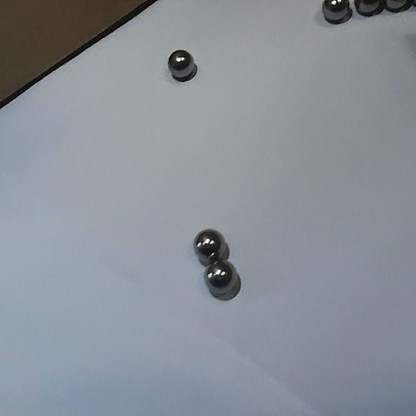ironball: (198, 258, 240, 299), (189, 222, 232, 261), (162, 43, 197, 80), (314, 0, 349, 23), (383, 0, 415, 19), (354, 0, 382, 21)
